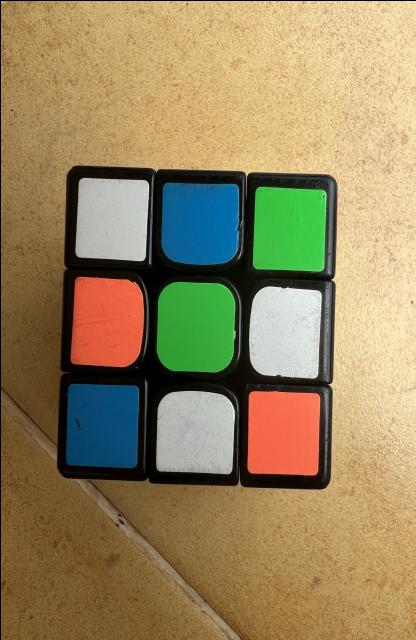Blue: (160, 181, 238, 264), (65, 382, 138, 468)
Green: (155, 281, 235, 371), (251, 185, 326, 271)
Orange: (69, 276, 143, 366), (246, 390, 320, 475)
White: (248, 285, 321, 378), (155, 390, 234, 474), (75, 176, 148, 260)
